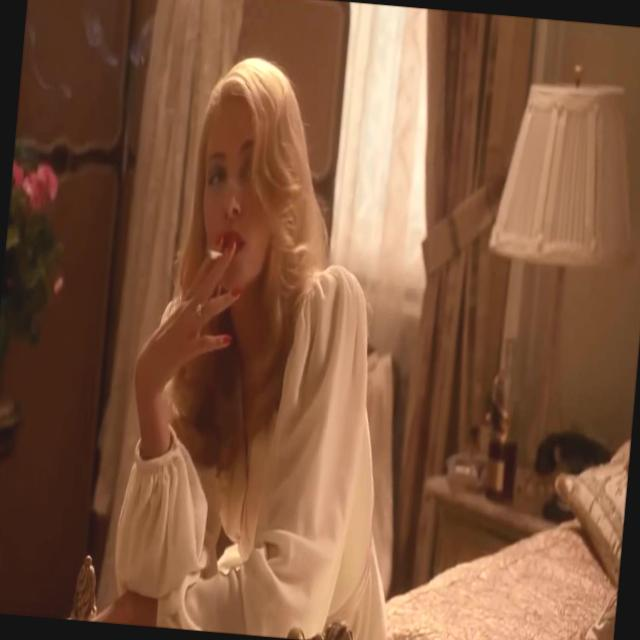smoke: (200, 225, 231, 278)
